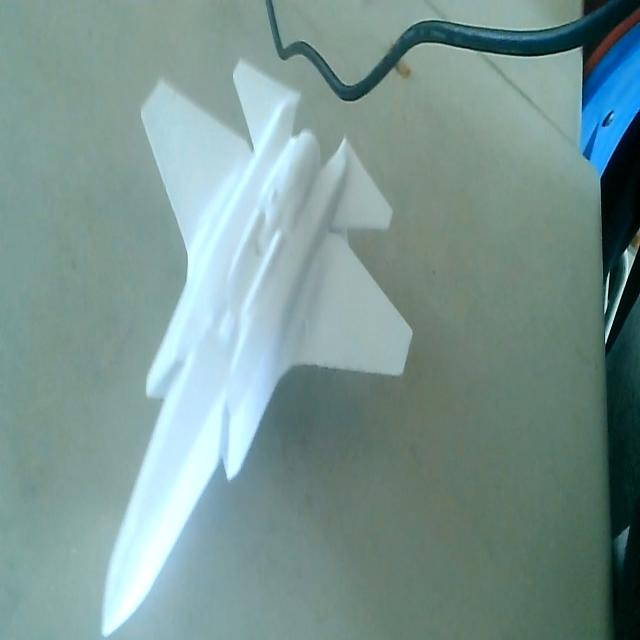Jet: (102, 54, 415, 640)
